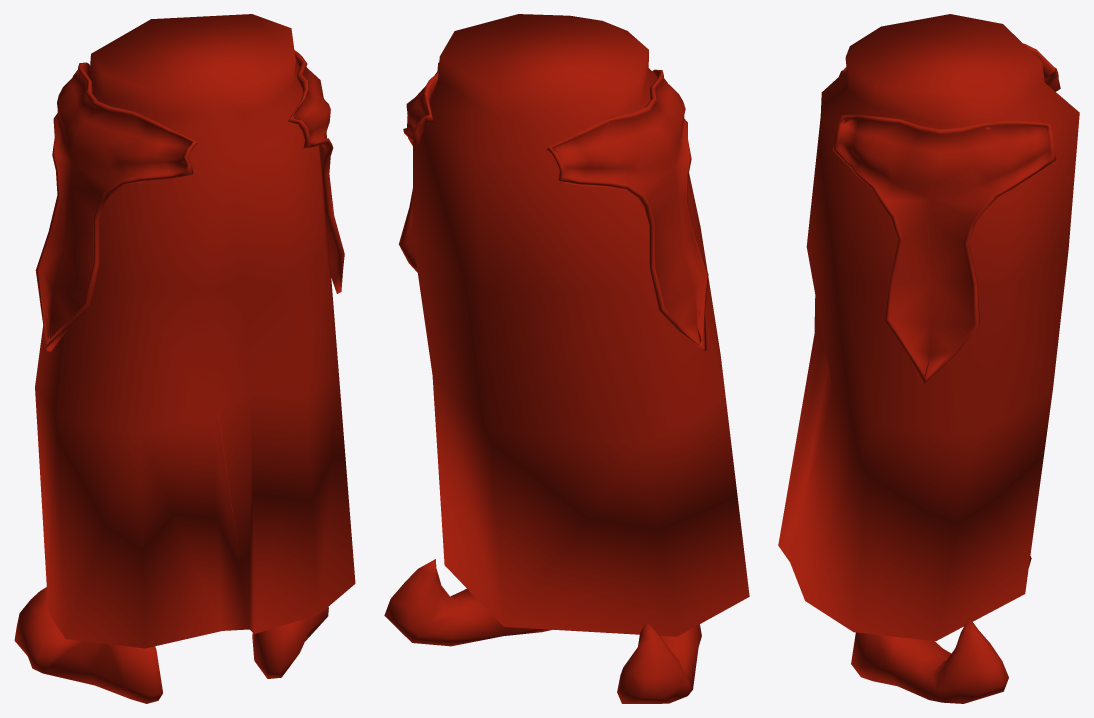
Rendered from bot_000013.obj.
3 views of the same model, side by side, from view 1: azimuth 30°, elevation 25°; view 2: azimuth 150°, elevation 25°; view 3: azimuth 270°, elevation 25° (orthographic).
Visible parts, largest first — view 1: LowPoly_Warlock.004_Plane.004; view 2: LowPoly_Warlock.004_Plane.004; view 3: LowPoly_Warlock.004_Plane.004.
Part boxes in pixels (<box>): LowPoly_Warlock.004_Plane.004: <box>14,14,355,703</box>; LowPoly_Warlock.004_Plane.004: <box>384,14,749,703</box>; LowPoly_Warlock.004_Plane.004: <box>778,14,1079,703</box>.
Size of the model in its own units: 0.5906 by 1.12 by 0.5097.
